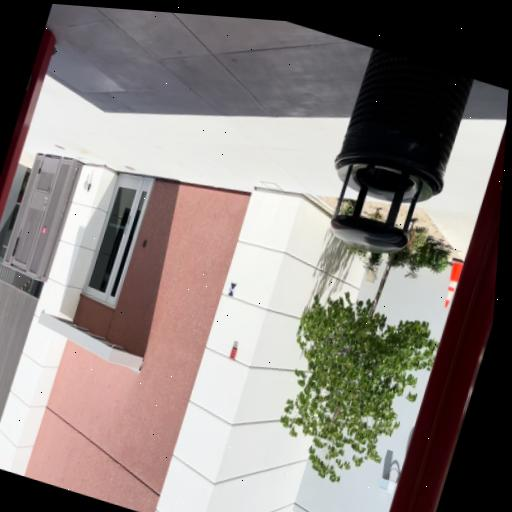target9: (227, 282, 237, 297)
